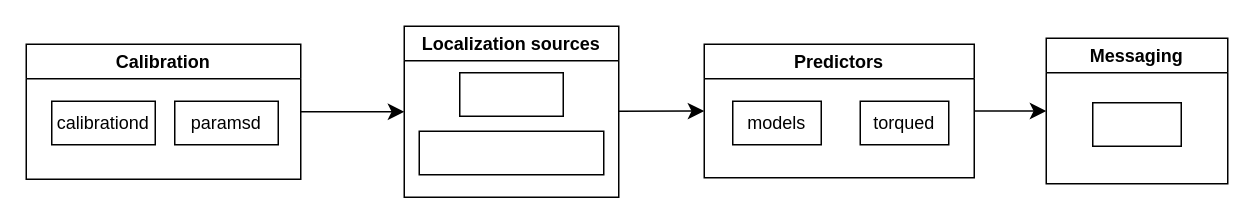
Image size: 1254x224. Some labels were removed from this diagram. Here are the shapes that lost their labels. From the top down, the centre of each, then its label:
the point at 510,93: Localizer
the point at 1136,123: celery
the point at 511,152: LocalizerGnssSource
